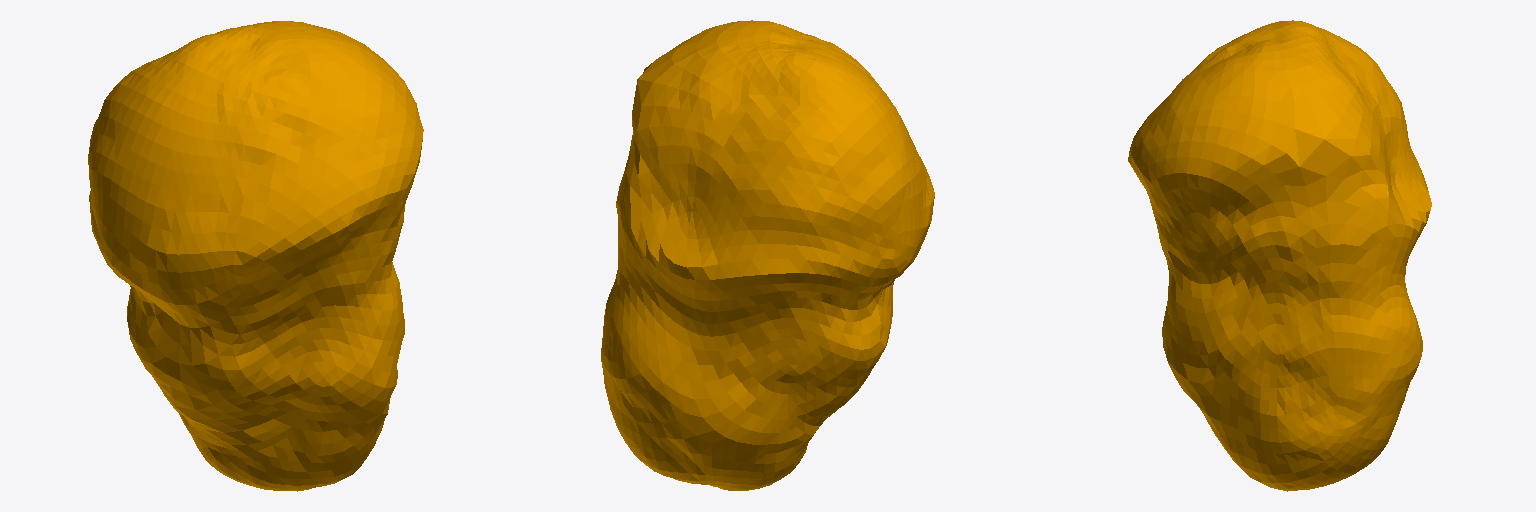
URDF robot description (rock):
<?xml version="1.0" ?>
<robot name="rock">
  <link name="rock">
    <inertial>
      <mass value="0.25"/>
      <origin rpy="0 0 0" xyz="0 0 0"/>
      <inertia ixx="0.00025" ixy="0" ixz="0" iyy="0.00025" iyz="0" izz="0.00025"/>
    </inertial>
    <collision name="rock_collision">
      <origin rpy="0 0 0" xyz="0 0 0"/>
      <geometry>
        <mesh filename="package://rocks/visual/38.dae" scale="1 1 1"/>
      </geometry>
    </collision>
    <visual name="rock_visual">
      <origin rpy="0 0 0" xyz="0 0 0"/>
      <geometry>
        <mesh filename="package://rocks/visual/38.dae" scale="1 1 1"/>
      </geometry>
    </visual>
  </link>
</robot>

--- What the picture shows (computed from the rendered views, not written in the file) ---
Views: 3 orthographic renders of the robot side by side, from view 1: azimuth 30°, elevation 25°; view 2: azimuth 150°, elevation 25°; view 3: azimuth 270°, elevation 25°.
Model rock with 1 links and 0 joints (none), rooted at rock, posed every joint at zero.
Links seen in each view (by area): view 1: rock; view 2: rock; view 3: rock.
Link boxes in pixels (left/top/right/bottom): rock: left=88, top=21, right=423, bottom=491; rock: left=601, top=20, right=934, bottom=490; rock: left=1128, top=20, right=1431, bottom=491.
Size in the robot's own frame: 0.0568 by 0.058 by 0.0884 metres.
Meshes: 1 distinct files referenced, 1 mesh visuals loaded (1 Collada DAE).